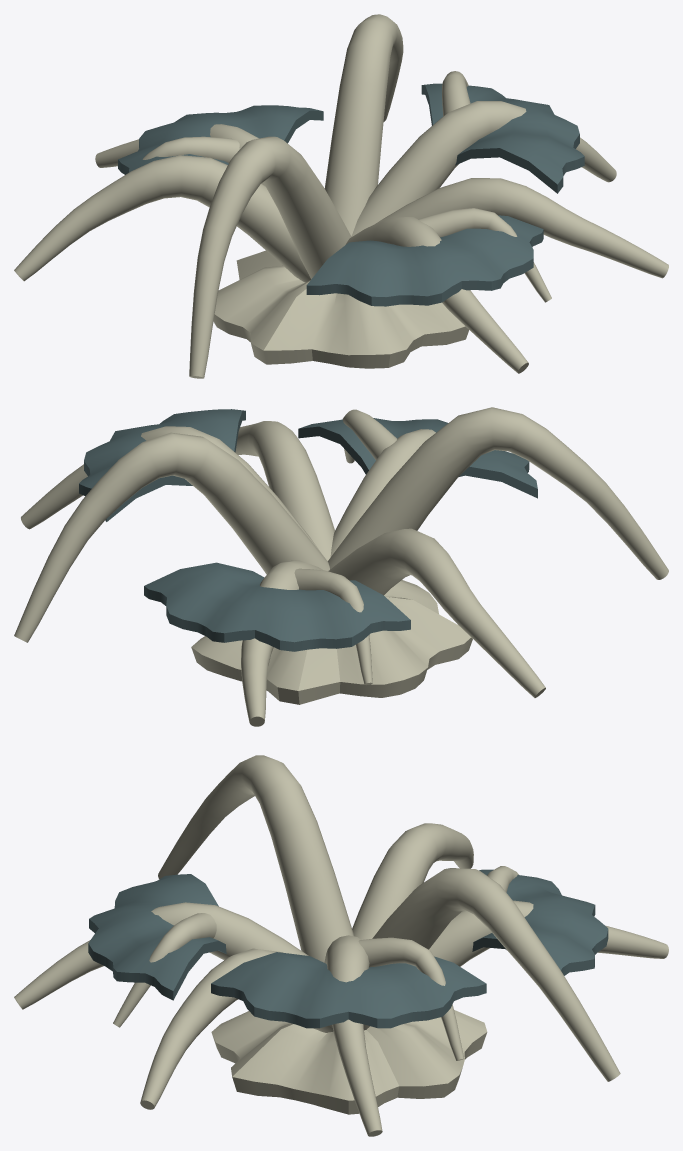
The model's file is dead_crown_lod0.glb.
The picture shows the model from 3 angles, top to bottom: view 1: azimuth 30°, elevation 25°; view 2: azimuth 150°, elevation 25°; view 3: azimuth 270°, elevation 25°; orthographic projection. The views are drawn at different scales.
Parts seen in each view (by area): view 1: LOD0_calcite, LOD0_tissue_fold; view 2: LOD0_calcite, LOD0_tissue_fold; view 3: LOD0_calcite, LOD0_tissue_fold.
Part boxes in pixels (box(x1,y1,x2,y2)): LOD0_calcite: box(14, 14, 668, 378); LOD0_tissue_fold: box(118, 83, 584, 306); LOD0_calcite: box(14, 407, 668, 726); LOD0_tissue_fold: box(79, 409, 537, 651); LOD0_calcite: box(14, 755, 668, 1136); LOD0_tissue_fold: box(88, 869, 608, 1028).
Bounding box in the file's own units: 2.79 × 1.12 × 2.81.
